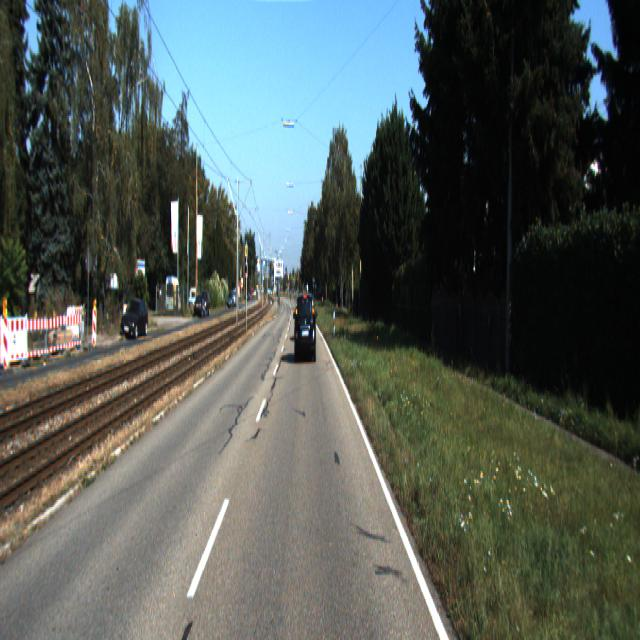Car: (295, 292, 317, 363), (122, 297, 150, 340)
